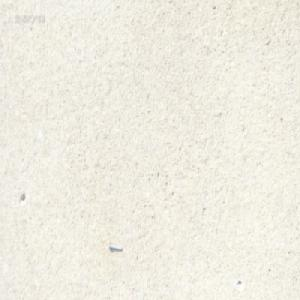Nail: (107, 241, 122, 251)
